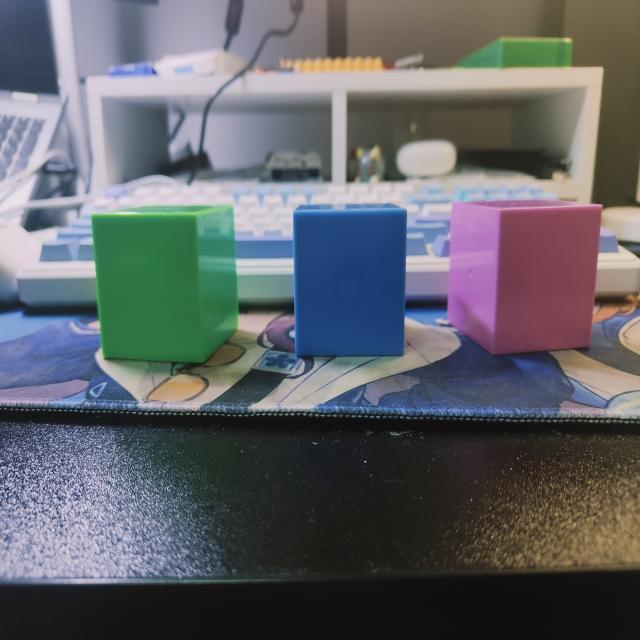blue: (292, 206, 408, 360)
green: (90, 203, 240, 369)
pink: (447, 201, 604, 358)
